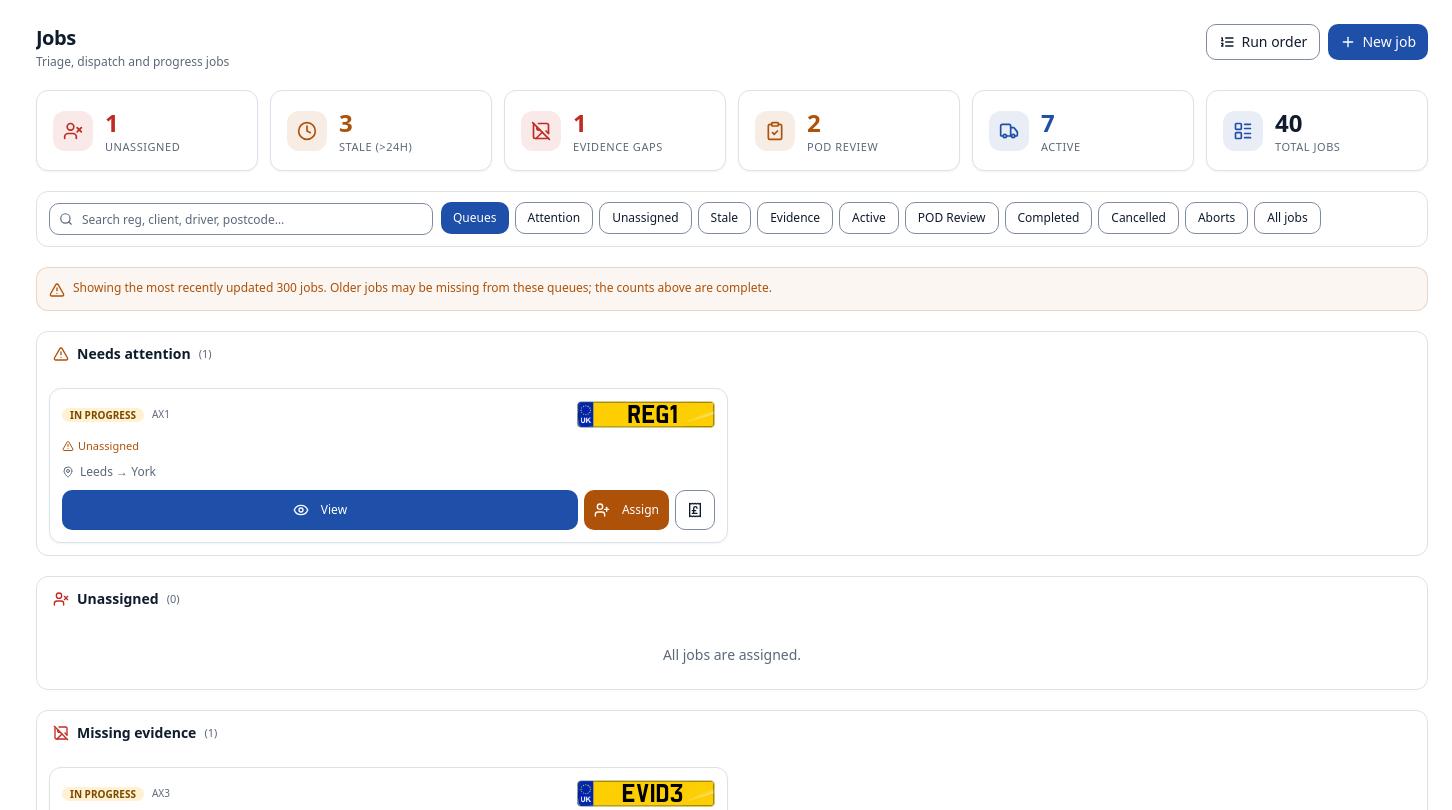
Test: Jobs screen › search filters the queues and is kept in the URL
The width and height of the screenshot is (1452, 810).
Type "evid" into the field named "search jobs" at (241, 219), box [49, 203, 433, 235]
(page scrolled)
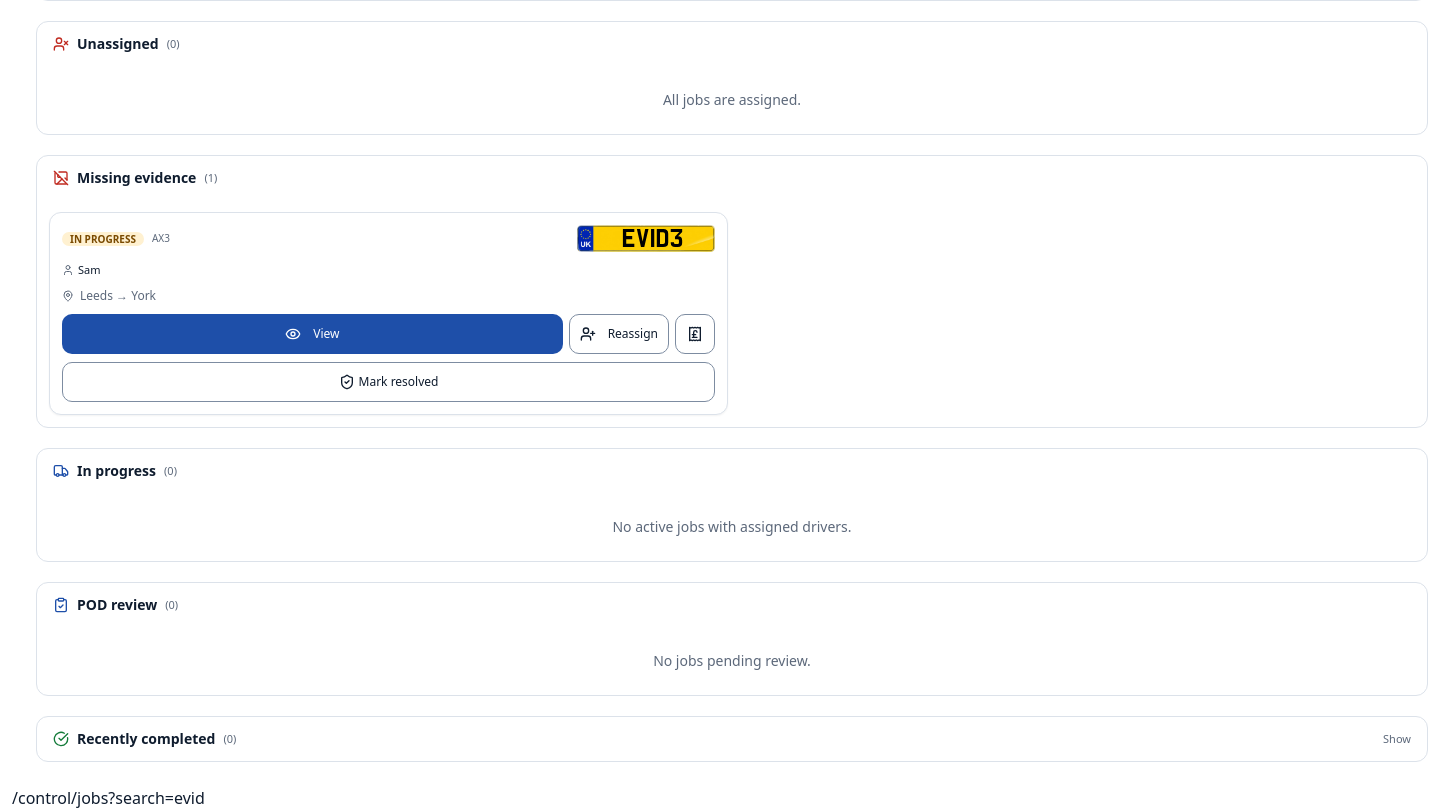
Check: the text with test id "loc" reads "/control/jobs?search=evid", box [12, 787, 205, 809]
